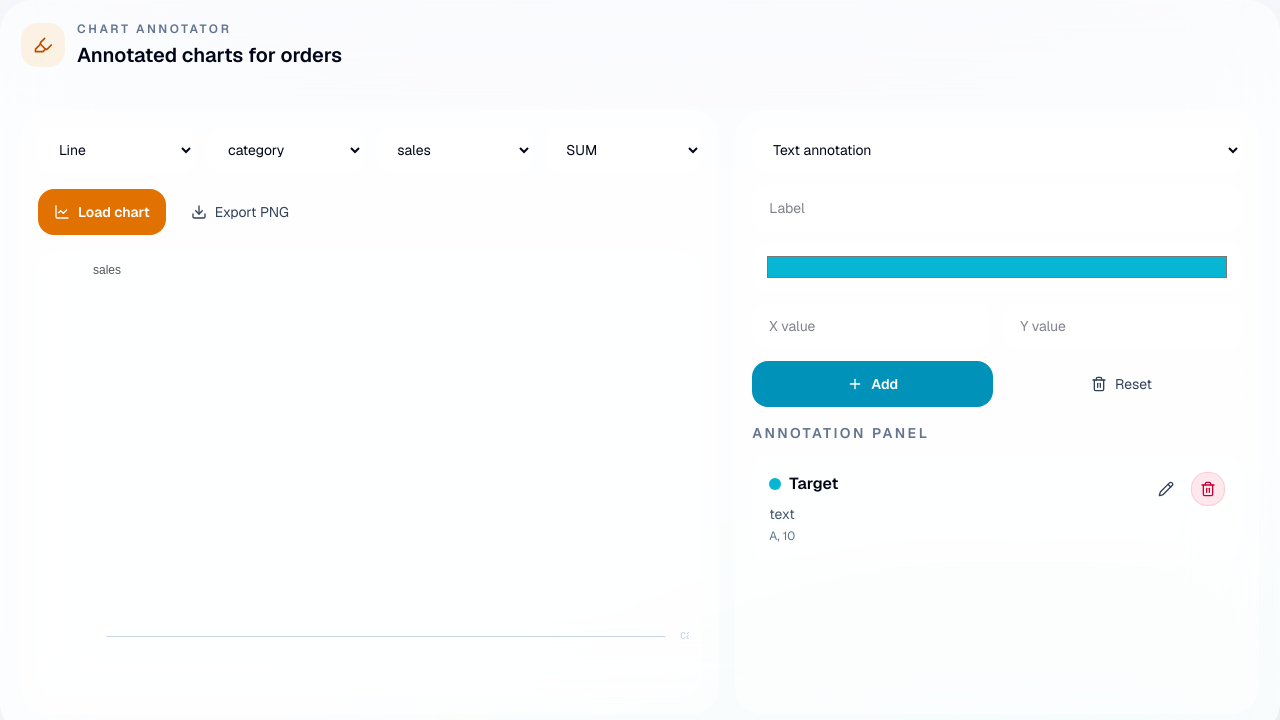
Test case: ChartAnnotator › deletes an existing annotation
This screenshot has width=1280, height=720.
Expected: the text "Target" is shown, [789,473,838,494]
Step 1. Click the 6th button → (1208, 489), box [1191,472,1225,506]
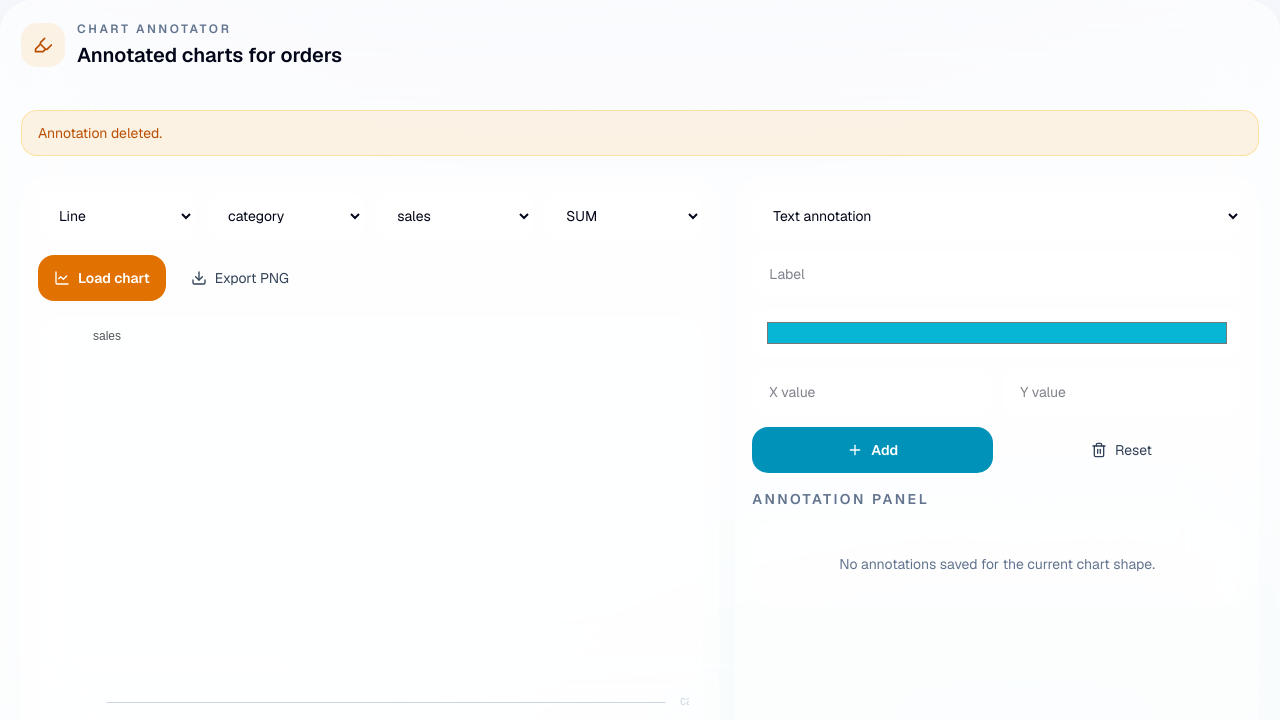
Now the text "Annotation deleted." is shown, box [21,110,1259,156]
